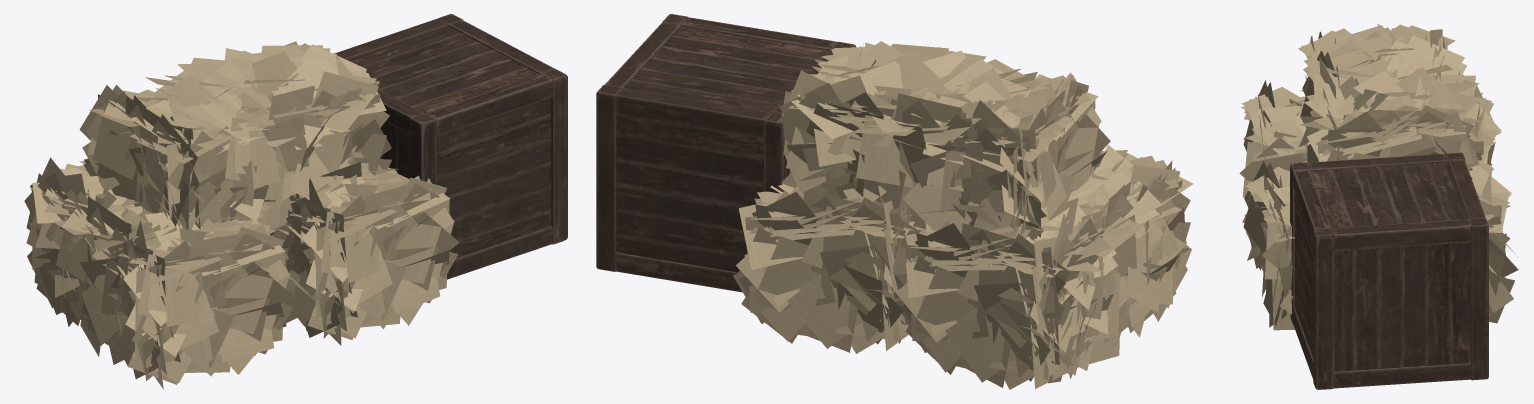
Rendered from HayPile3.glb.
The picture shows the model from 3 angles, left to right: view 1: azimuth 30°, elevation 25°; view 2: azimuth 150°, elevation 25°; view 3: azimuth 270°, elevation 25°; orthographic projection. The views are drawn at different scales.
Visible parts, largest first — view 1: Haybale, Crate2; view 2: Haybale, Crate2; view 3: Crate2, Haybale.
Part boxes in pixels (x1,y1,x2,y2): Haybale: [24, 41, 459, 389]; Crate2: [336, 14, 567, 279]; Haybale: [733, 41, 1193, 389]; Crate2: [596, 14, 855, 292]; Crate2: [1290, 152, 1488, 389]; Haybale: [1239, 23, 1518, 330].
Size of the model in its own units: 2.17 by 1.07 by 1.2.
3 materials, 3 textured.
